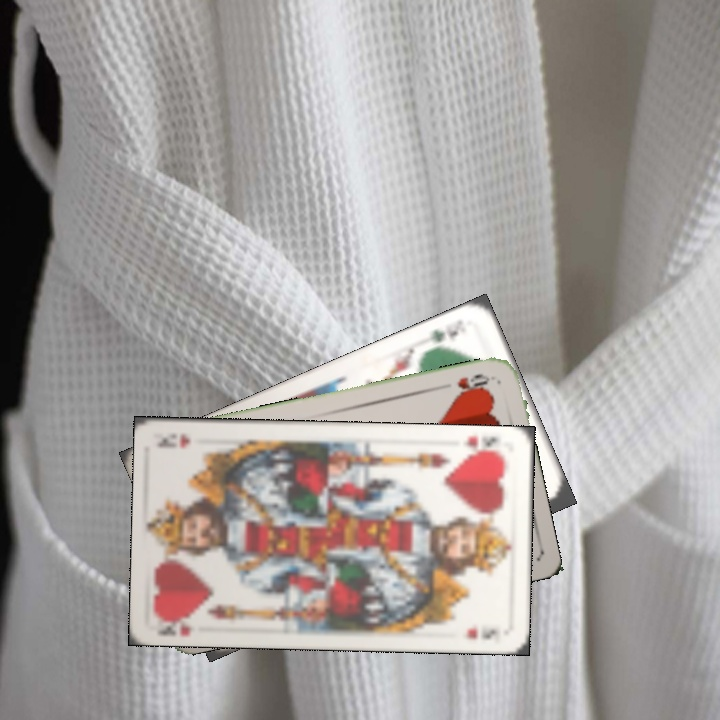GK: (424, 315, 469, 345)
HK: (154, 611, 198, 638), (459, 432, 500, 459)
HO: (451, 369, 495, 399)
